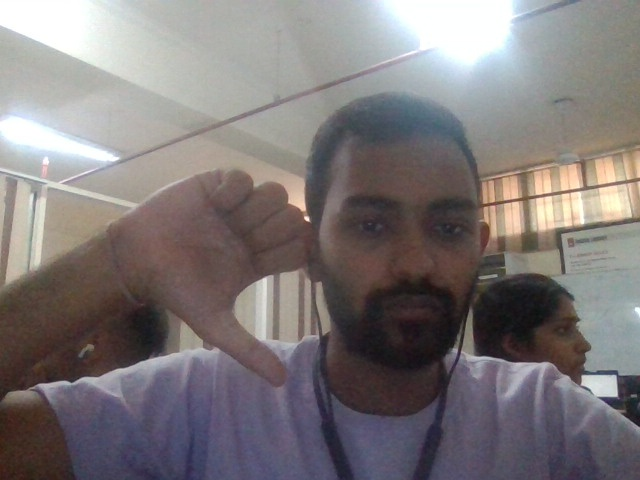No: (107, 168, 310, 389)
